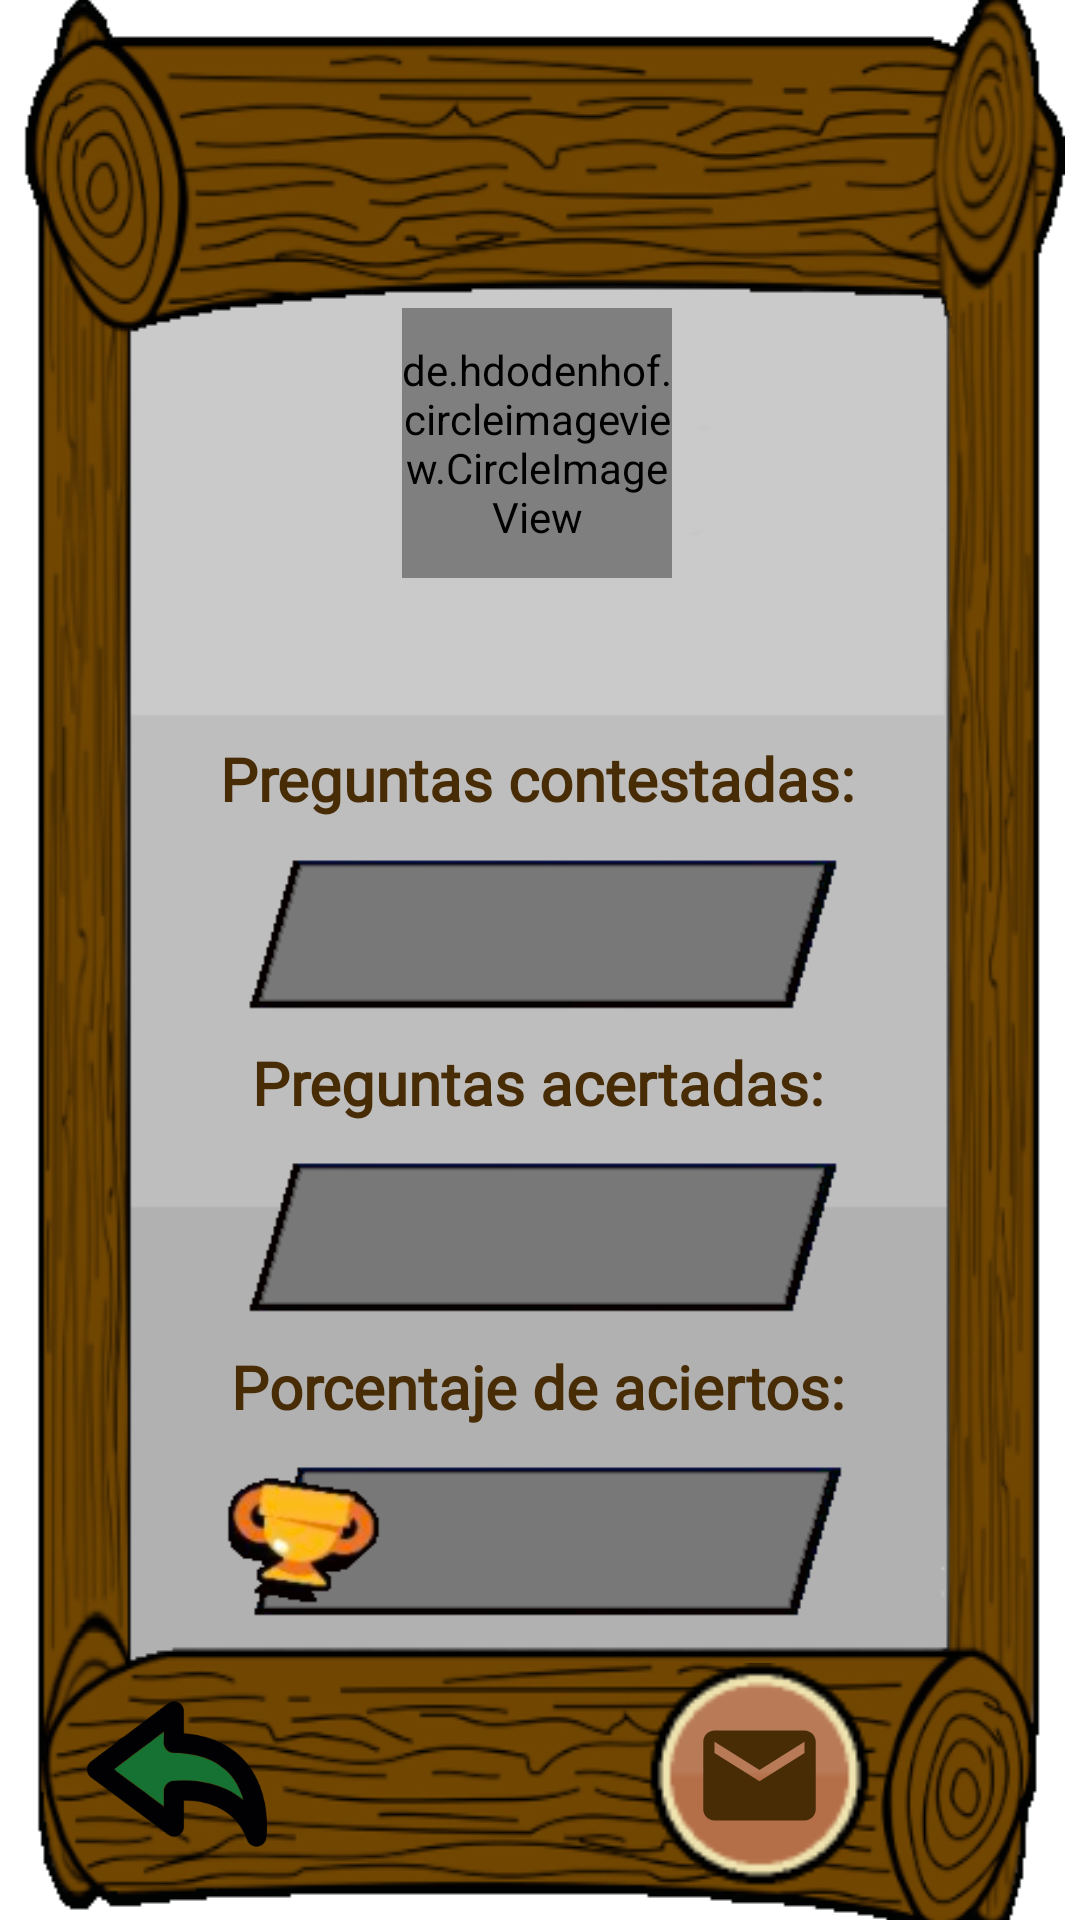

Named icons in this screenshot (1080×1920) and their centers, point (x, y):
Atrás: point (177, 1774)
